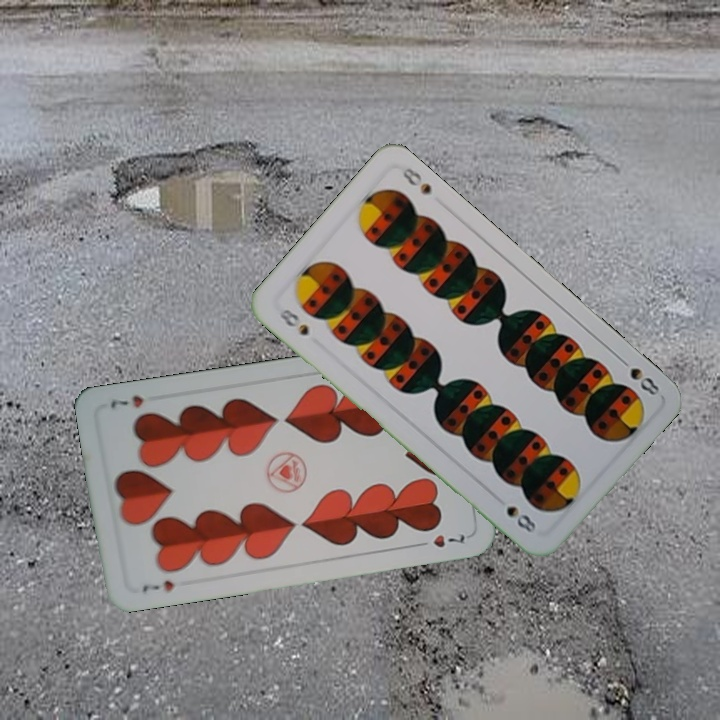H7: (138, 576, 176, 594)
S8: (614, 352, 662, 399), (275, 304, 312, 339)
